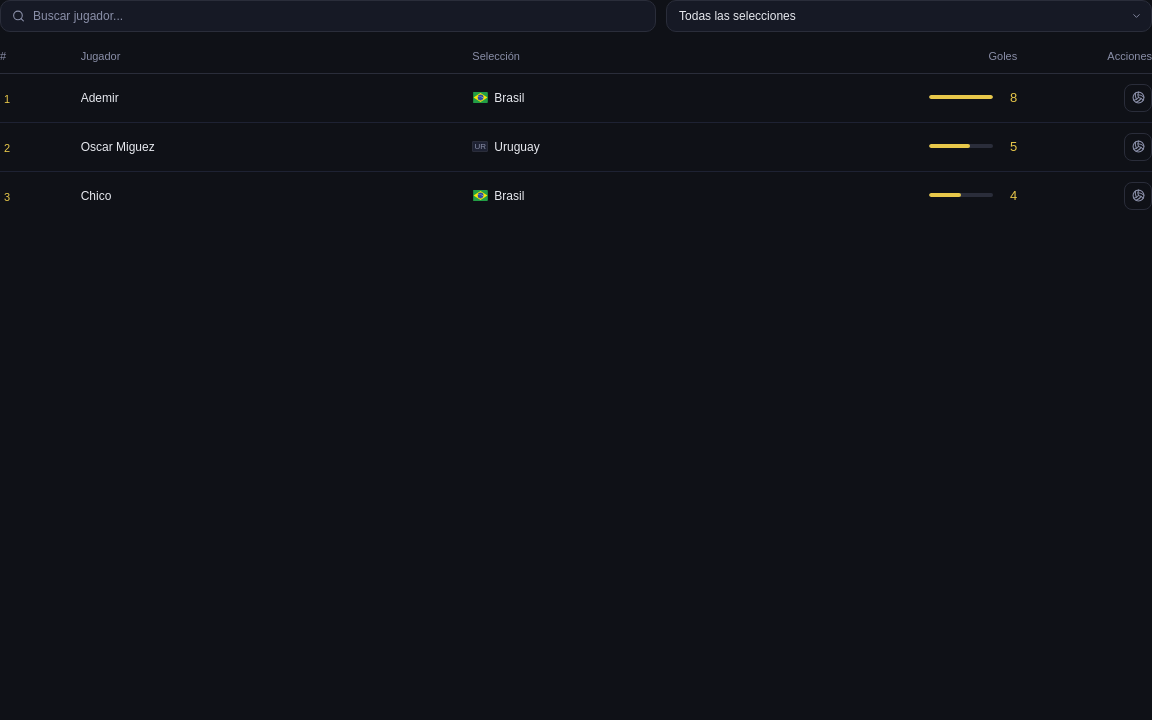
Test: ScorersTab › abre el modal de goles y consulta el jugador con el año de la ruta
The width and height of the screenshot is (1152, 720).
Click the button named "Detalle de goles de Ademir": click(1138, 98) x1=1124 y1=84 x2=1151 y2=112
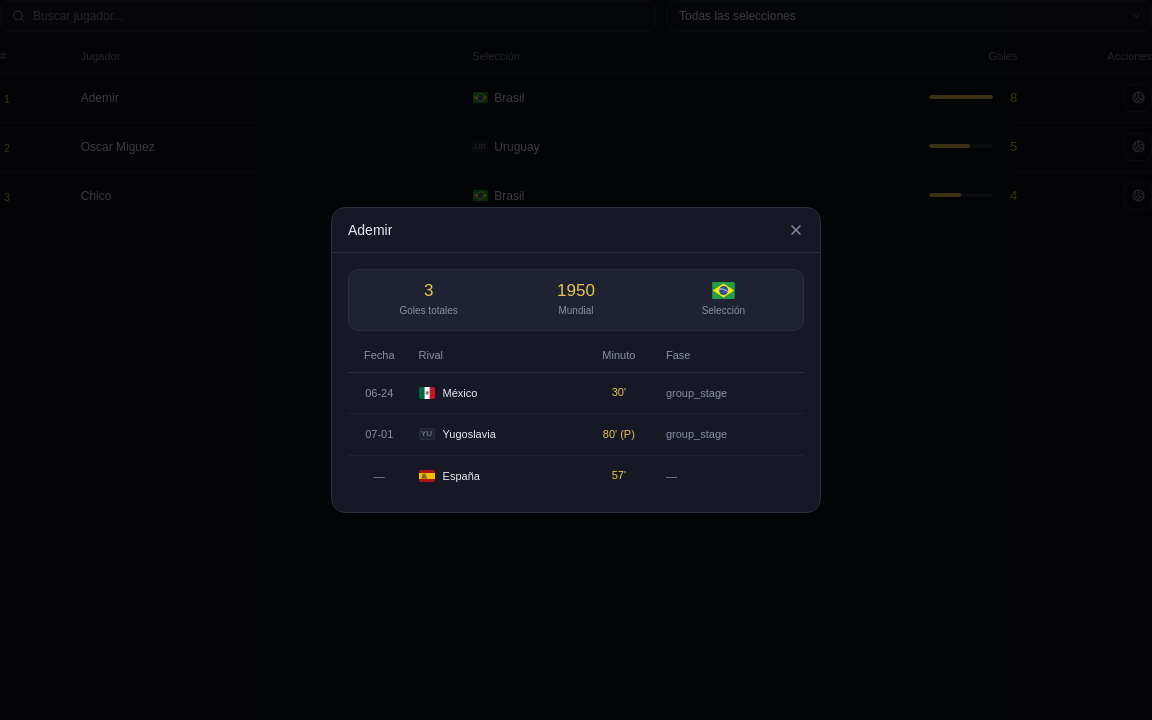
Result: the dialog named "Detalle de goles de Ademir" is shown
